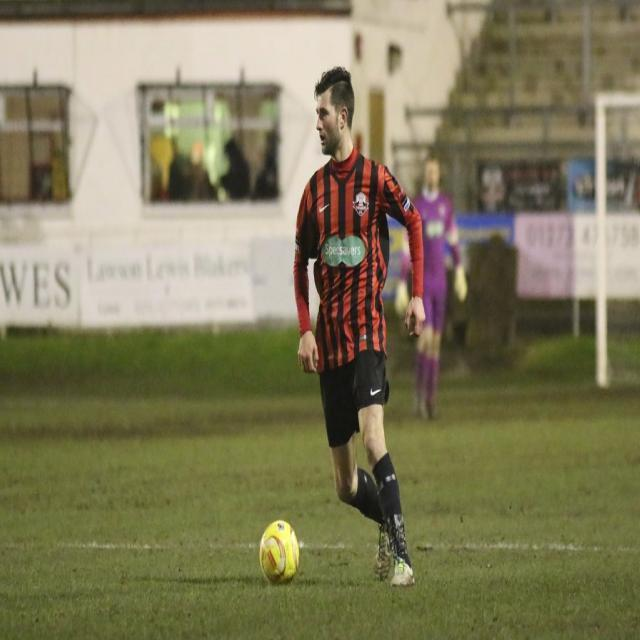football: (241, 516, 315, 592)
